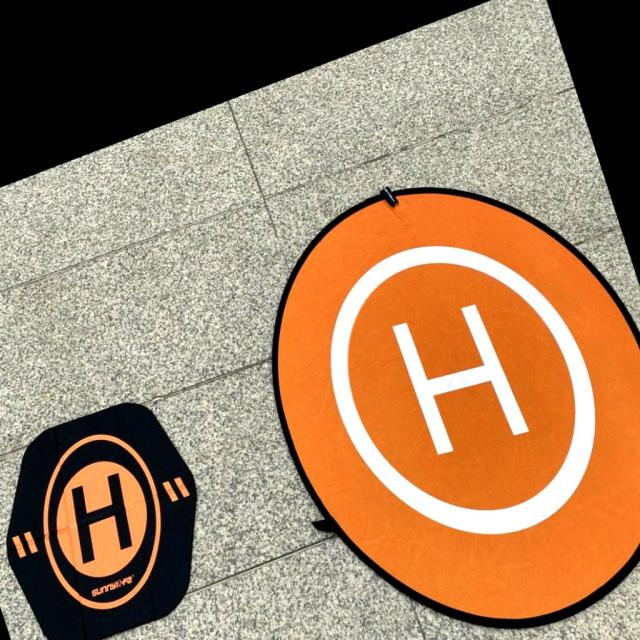helipad: (324, 241, 602, 538), (37, 430, 167, 612)
